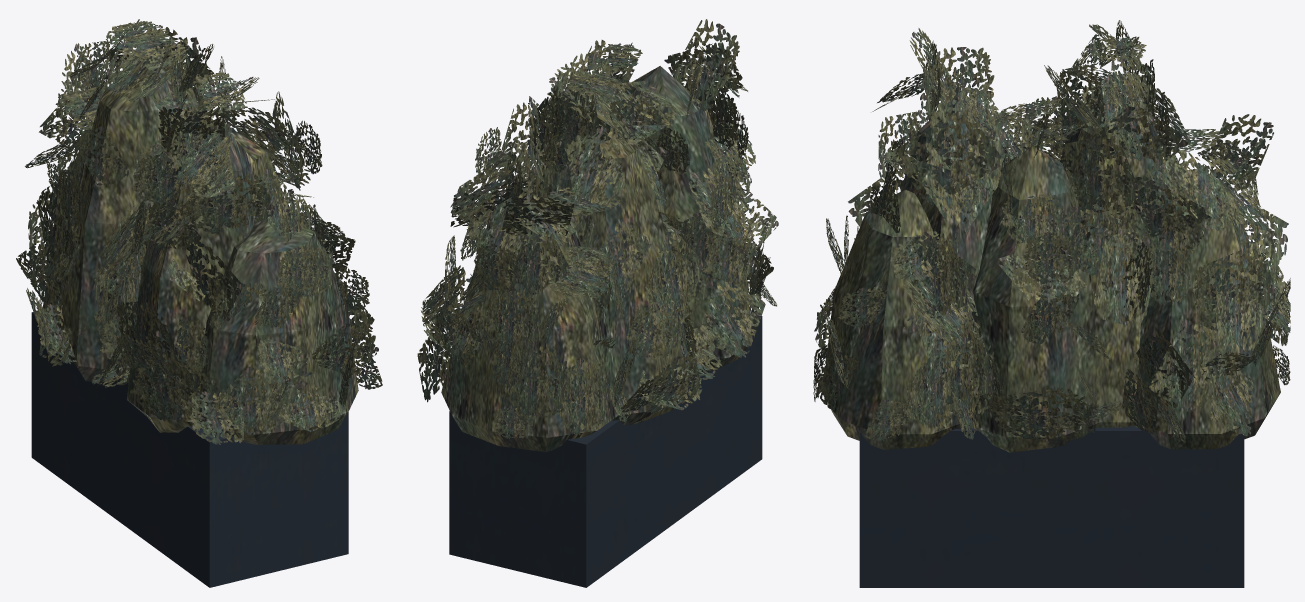
Rendered from SM_Molo_FiorieraAntracite_v2.fbx.
3 views of the same model, side by side, from view 1: azimuth 30°, elevation 25°; view 2: azimuth 150°, elevation 25°; view 3: azimuth 270°, elevation 25° (orthographic). The views are drawn at different scales.
Parts seen in each view (by area): view 1: SM_Molo_FiorieraAntracite_v2; view 2: SM_Molo_FiorieraAntracite_v2; view 3: SM_Molo_FiorieraAntracite_v2.
Part boxes in pixels (x1,y1,x2,y2): SM_Molo_FiorieraAntracite_v2: [16, 19, 382, 587]; SM_Molo_FiorieraAntracite_v2: [417, 19, 778, 587]; SM_Molo_FiorieraAntracite_v2: [813, 20, 1290, 587].
Size of what is drawn, in the model's own units: 77 by 124 by 142.
3 materials, 3 textured.
